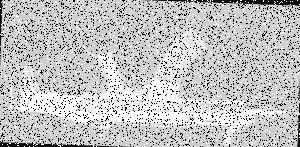rifle: (10, 7, 299, 147)
